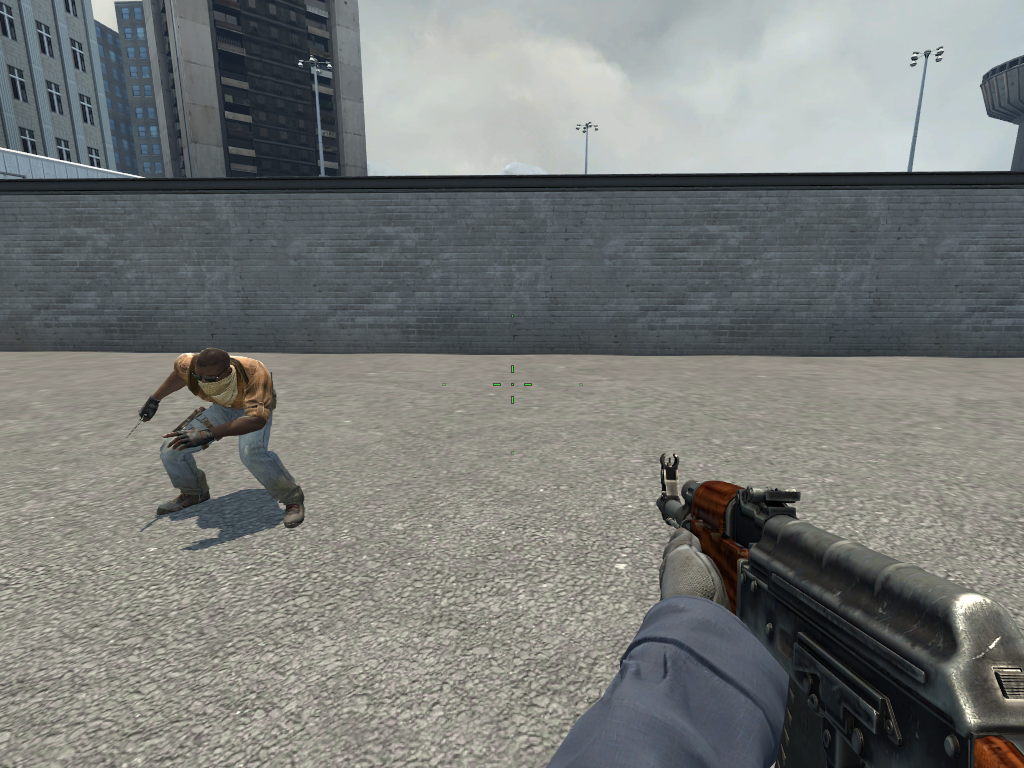tr head: (186, 345, 243, 408)
